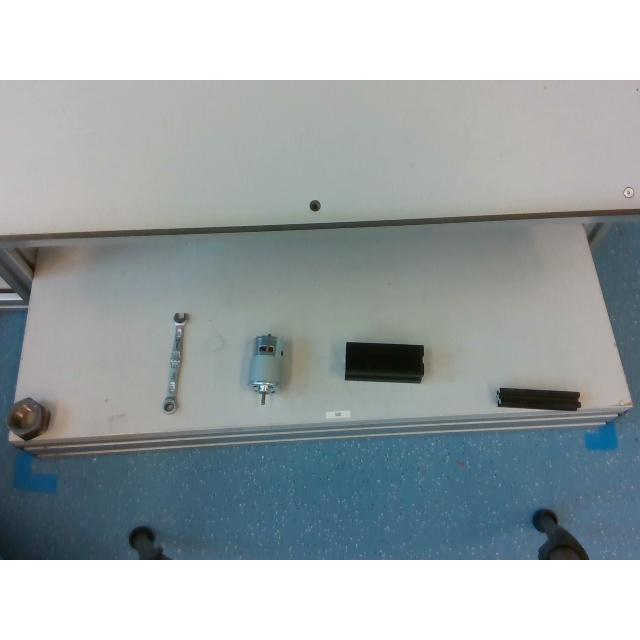F20_20_B: (496, 387, 580, 409)
M30: (8, 397, 50, 437)
Motor2: (250, 333, 282, 402)
S40_40_B: (344, 342, 422, 382)
Wrench: (162, 312, 188, 412)
